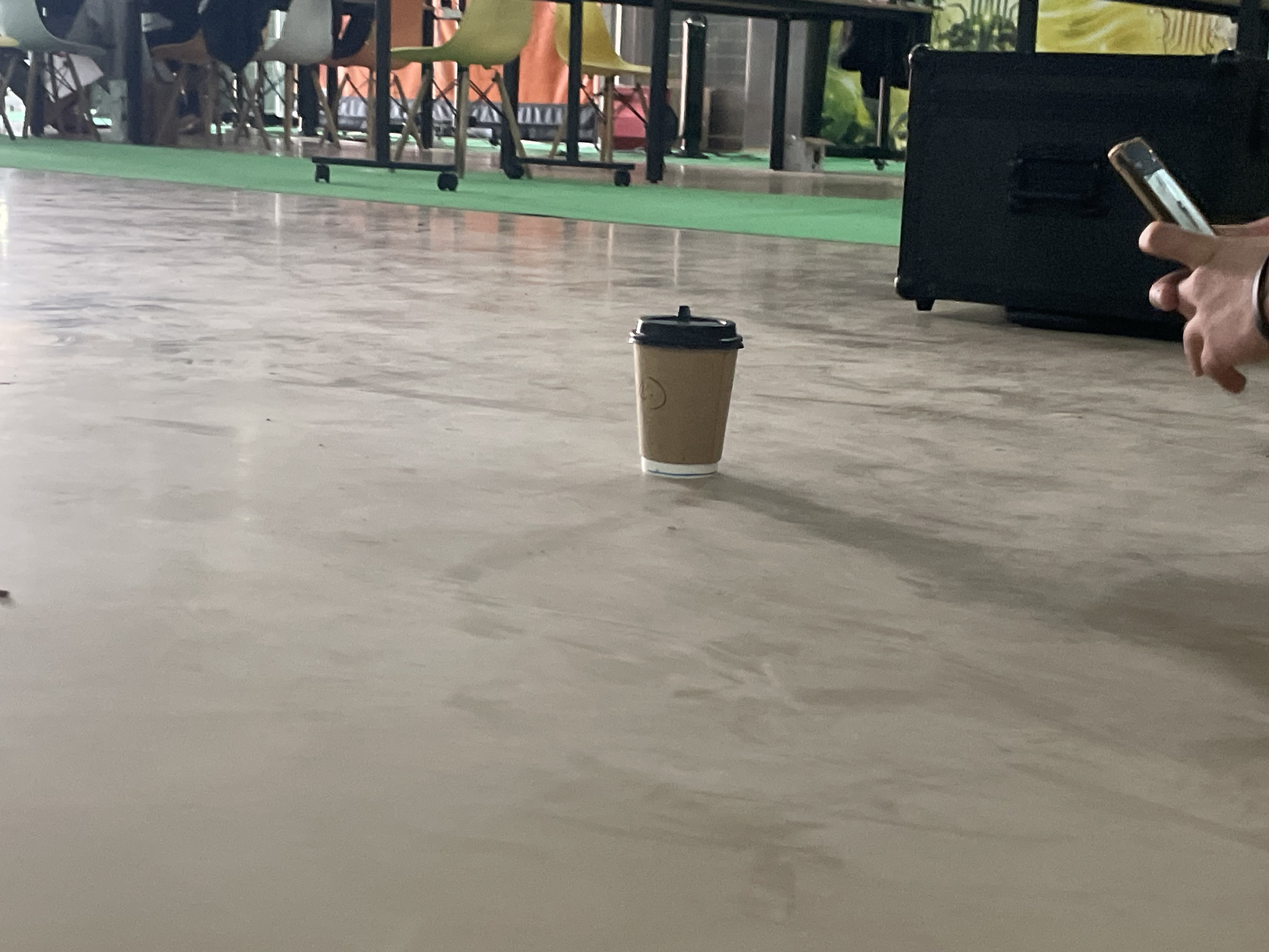cup: (628, 305, 745, 482)
